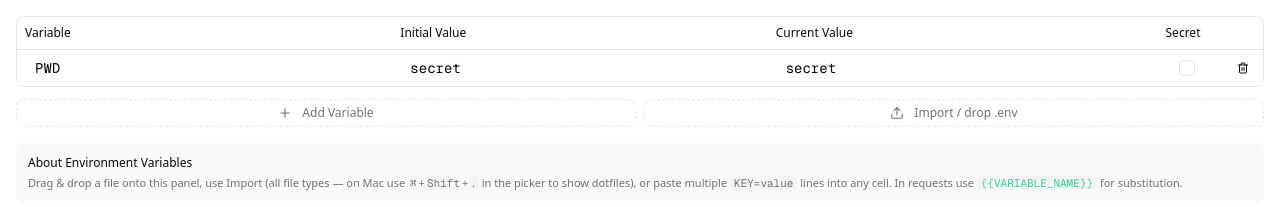
Test case: EnvVariableTable › marks secret and toggles visibility eye when secret
The image size is (1280, 207).
Click the checkbox with test id "var-secret-checkbox" at (1187, 68), box [1179, 60, 1195, 76]
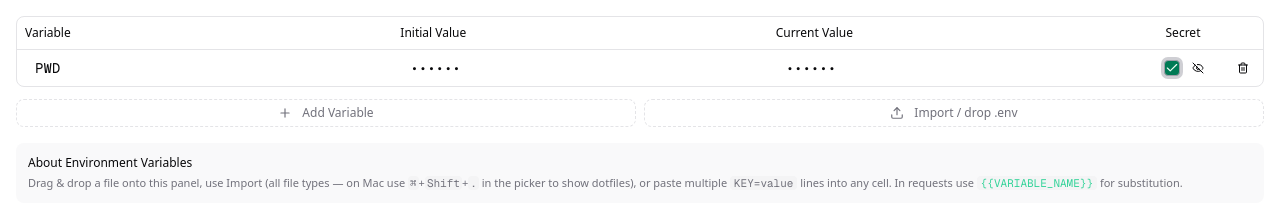
Check: the button with test id "var-secret-toggle" is shown
Click the button with test id "var-secret-toggle" at (1198, 68), box [1186, 56, 1210, 80]
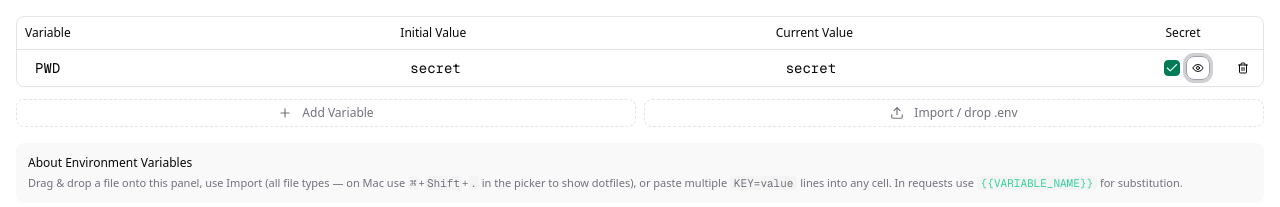
Check: the field with test id "var-initial-value-input" shows its text, box [400, 54, 760, 82]
